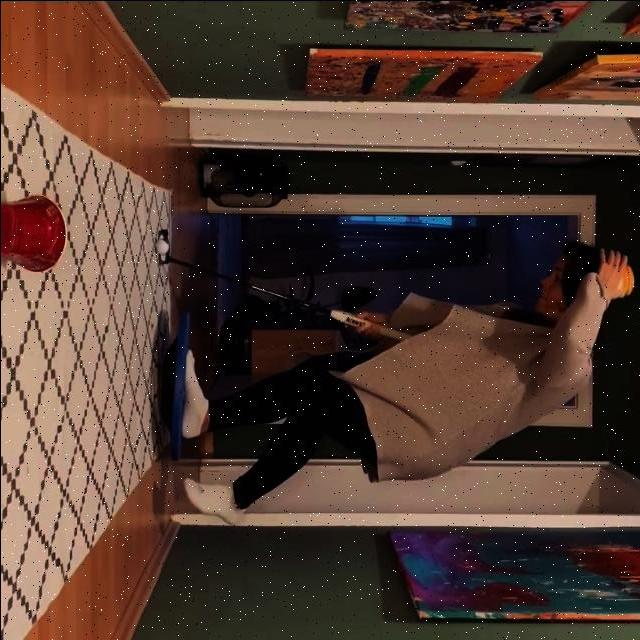golf ball: (154, 239, 167, 256)
golf club-handle: (157, 229, 409, 342)
golf club-head: (157, 229, 168, 266)
